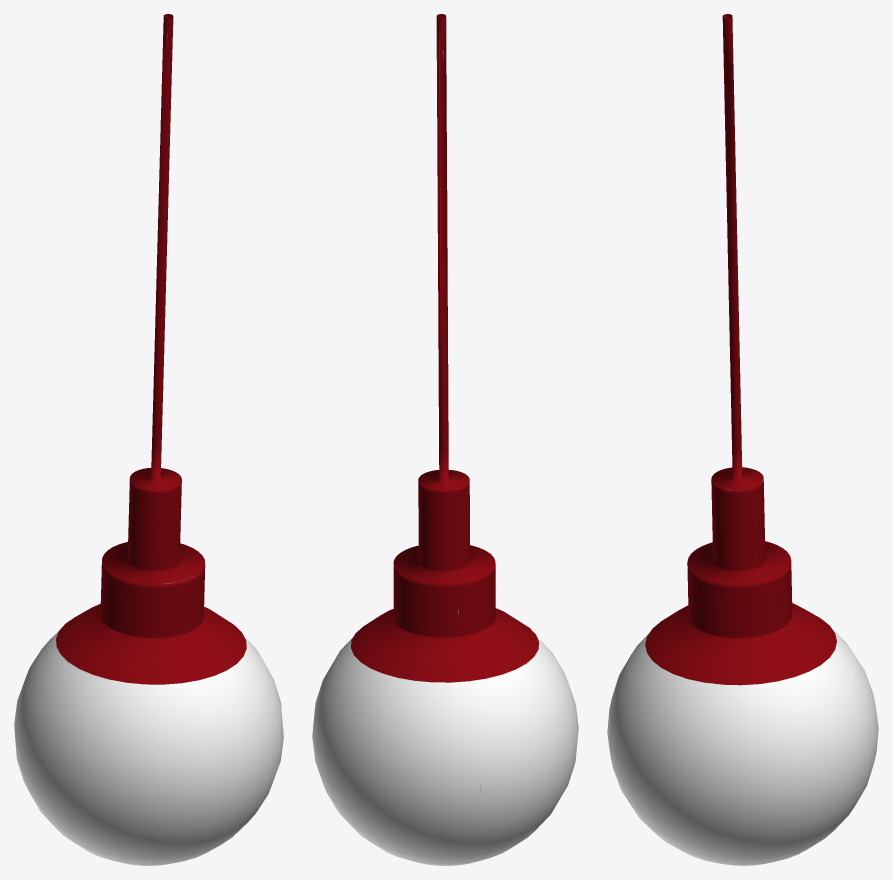
Rendered from lamp.obj.
3 views of the same model, side by side, from view 1: azimuth 30°, elevation 25°; view 2: azimuth 150°, elevation 25°; view 3: azimuth 270°, elevation 25° (orthographic).
Parts seen in each view (by area): view 1: Occhio_Divo_Lamp_Sphere.003; view 2: Occhio_Divo_Lamp_Sphere.003; view 3: Occhio_Divo_Lamp_Sphere.003.
Boxes of the visible parts, bbox=[...] form: Occhio_Divo_Lamp_Sphere.003: bbox=[14, 14, 283, 865]; Occhio_Divo_Lamp_Sphere.003: bbox=[312, 14, 578, 865]; Occhio_Divo_Lamp_Sphere.003: bbox=[607, 14, 878, 865].
Bounding box in the file's own units: 7.89 × 27.04 × 7.89.
2 materials, 2 textured.
